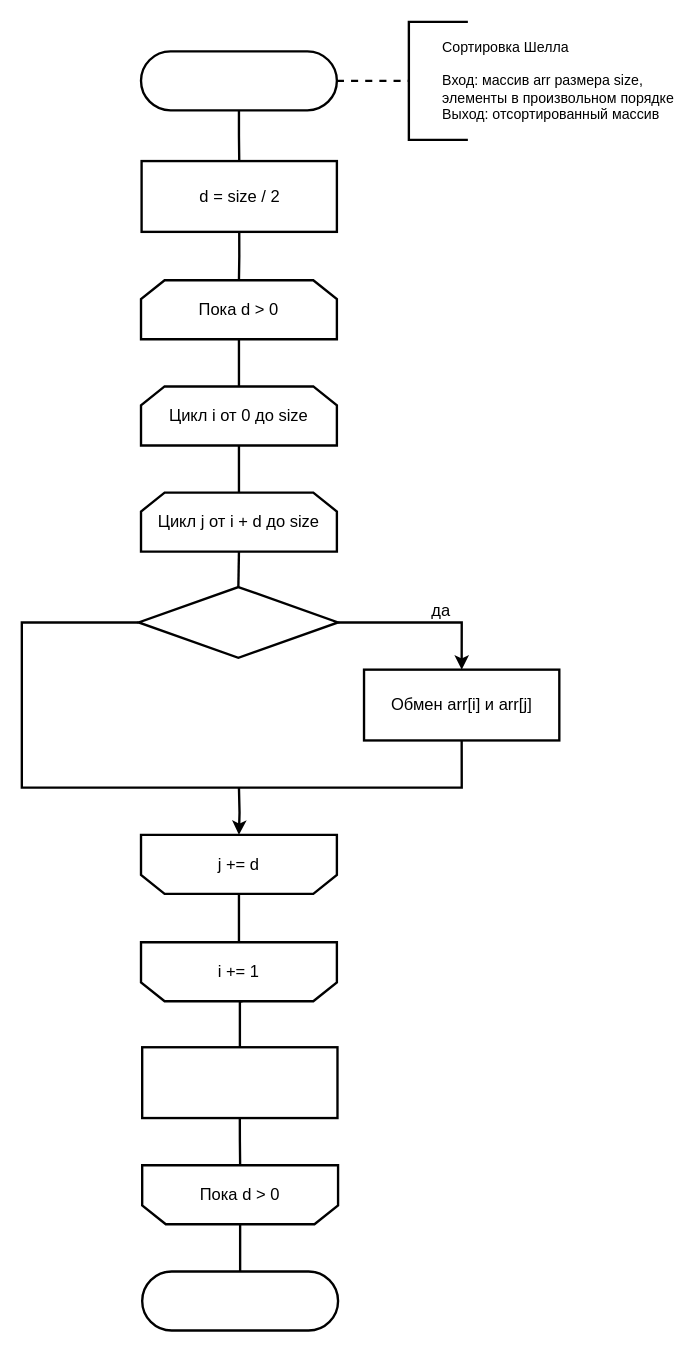
This 694x1351 diagram has some shape labels left out. The centre of each missing label's shape, as x and y in pixels:
"arr[i] < arr[j]" belongs at (x=238, y=621).
"d /= 2" belongs at (x=239, y=1082).
"Конец" belongs at (x=239, y=1300).
"Начало" belongs at (x=238, y=80).
